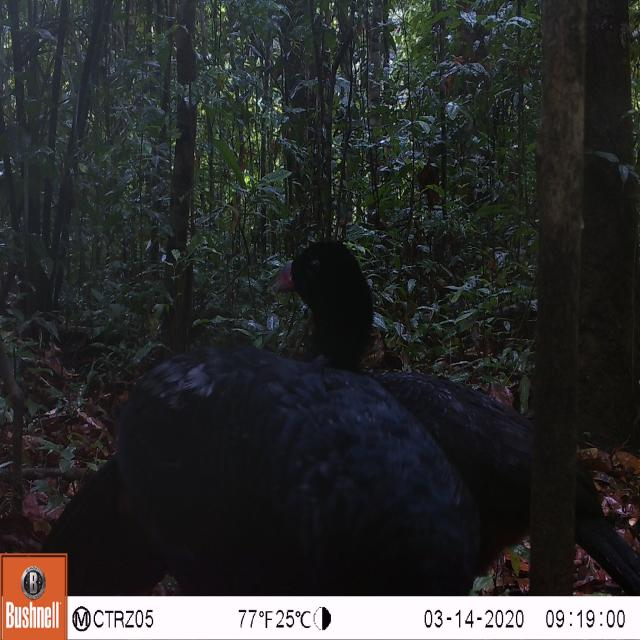Salvins Curassow: (261, 191, 639, 588), (110, 343, 480, 597)
